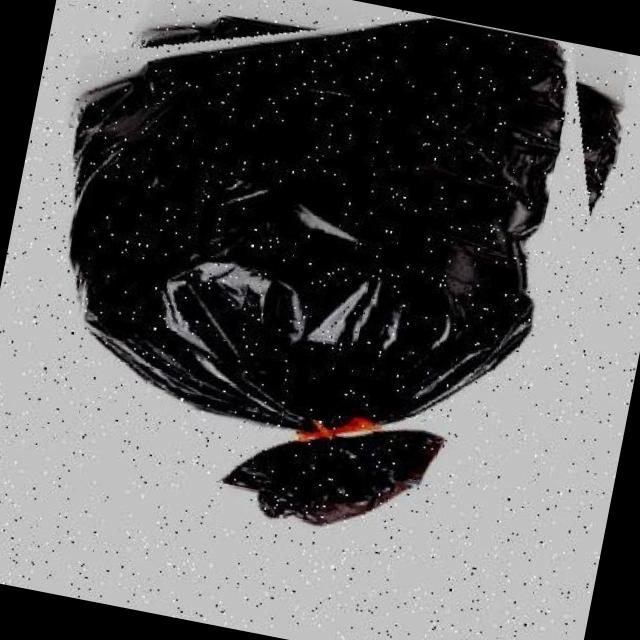KantongPlastik: (5, 0, 634, 572)
